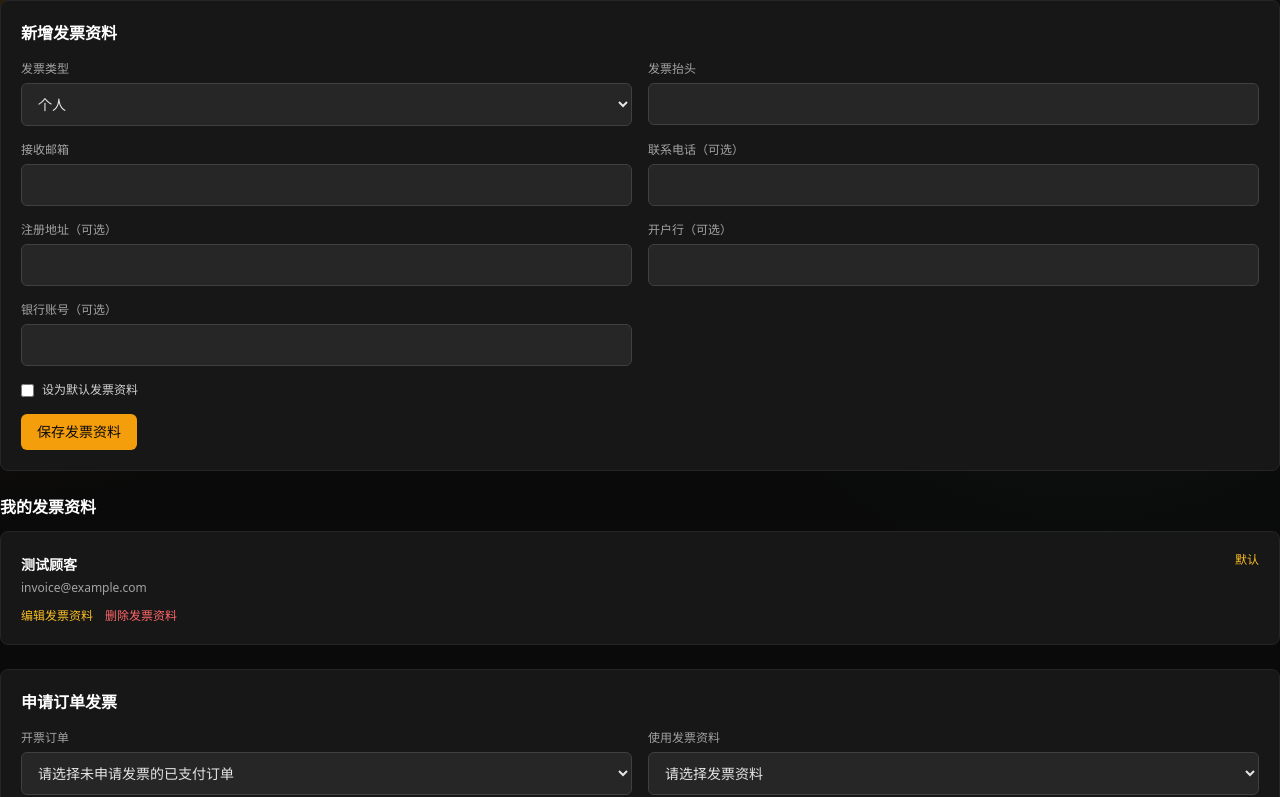
InvoicePanel › updates and version-deletes an invoice profile
Click the button "编辑发票资料" at (57, 616), box x1=21 y1=608 x2=93 y2=624
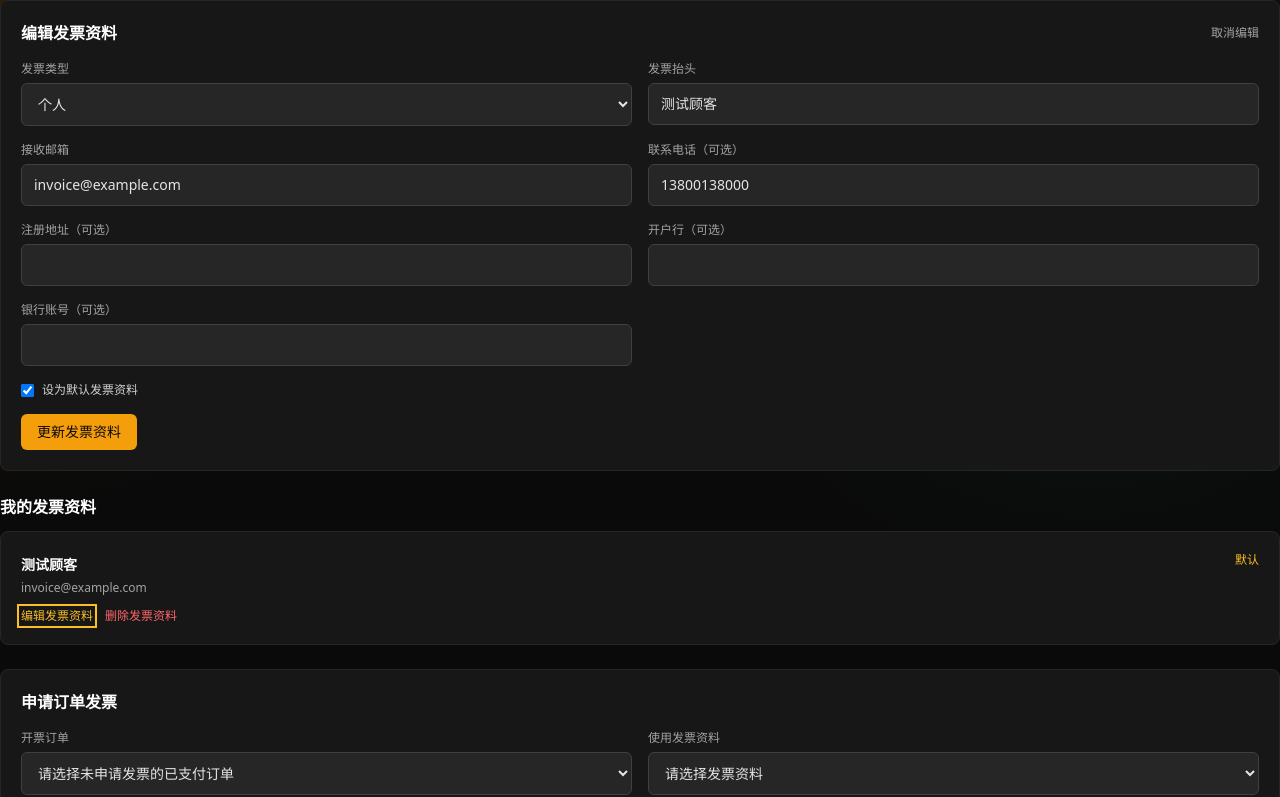
Replace the text in the field labelled "接收邮箱" with "finance@example.com" at (326, 185), box x1=21 y1=164 x2=632 y2=206
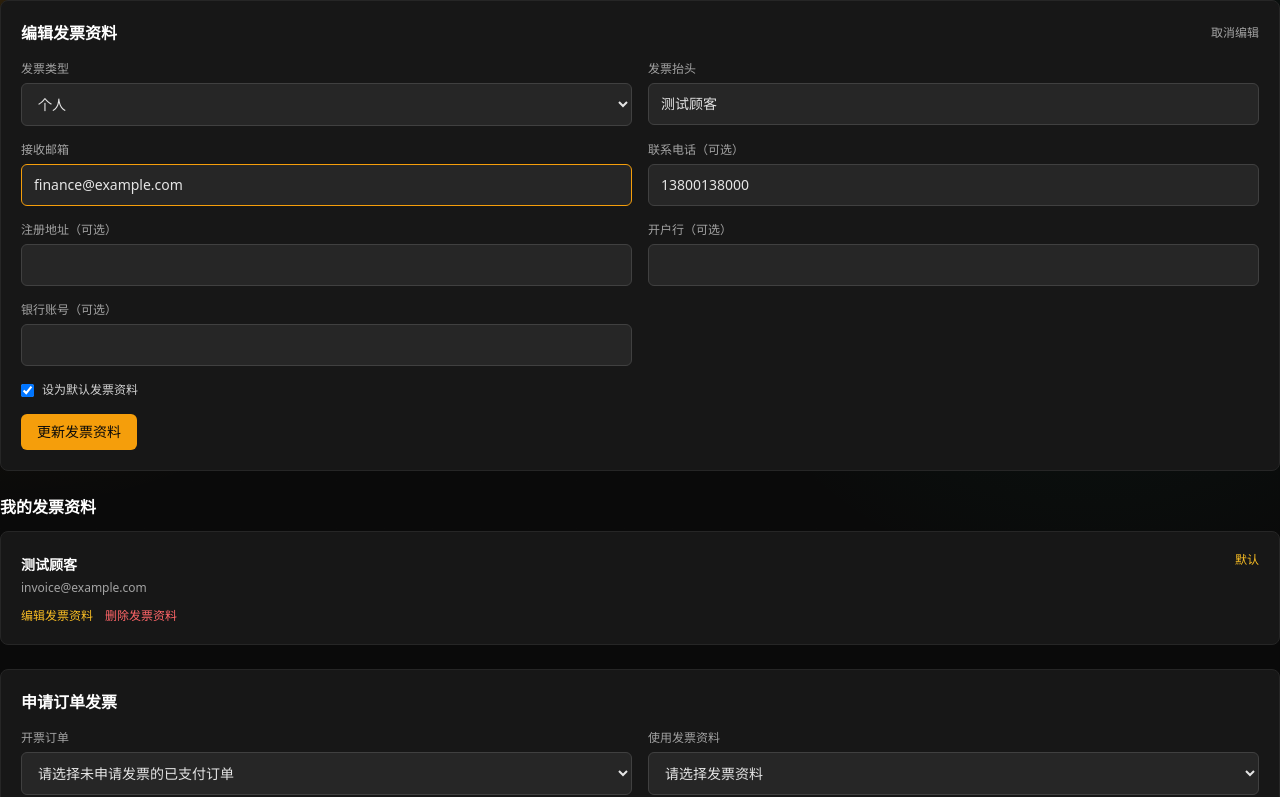
Click the button "更新发票资料" at (79, 432), box x1=21 y1=414 x2=137 y2=450
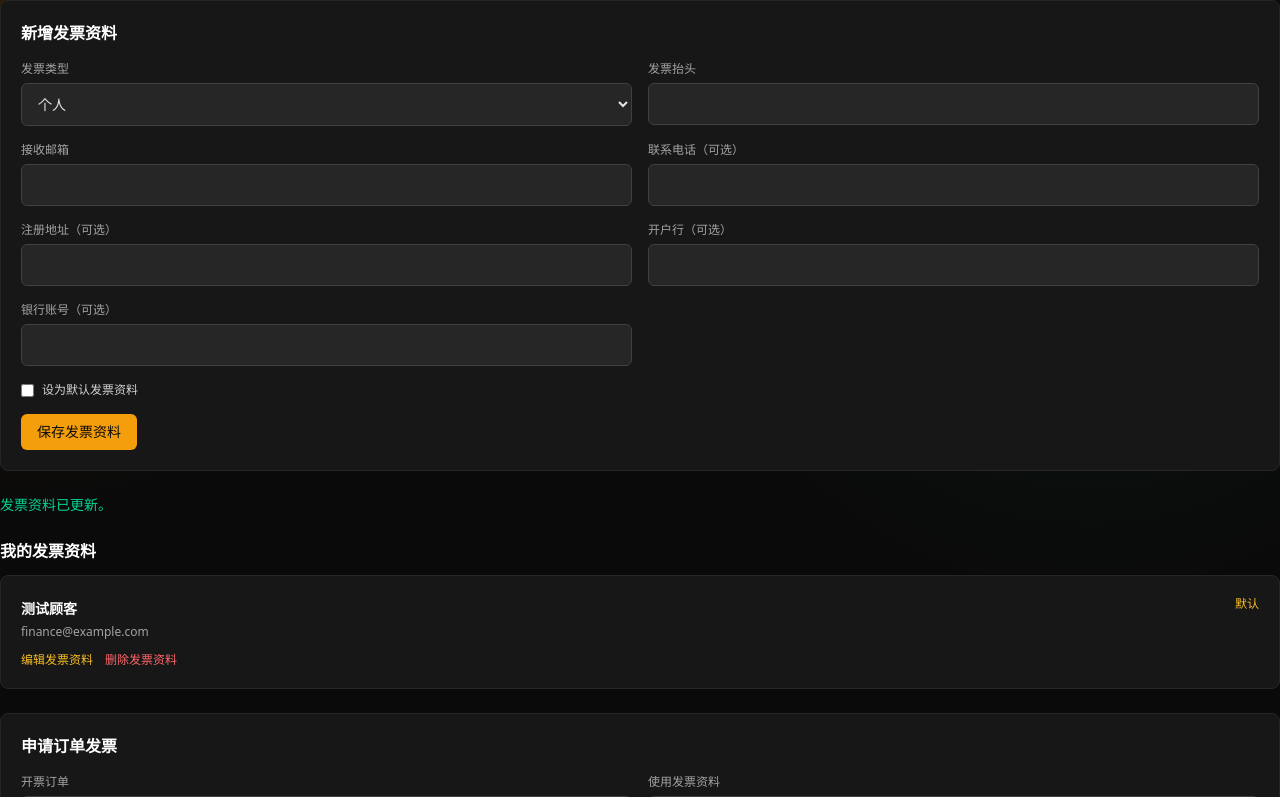
Click the button "删除发票资料" at (141, 660), box x1=105 y1=652 x2=177 y2=668
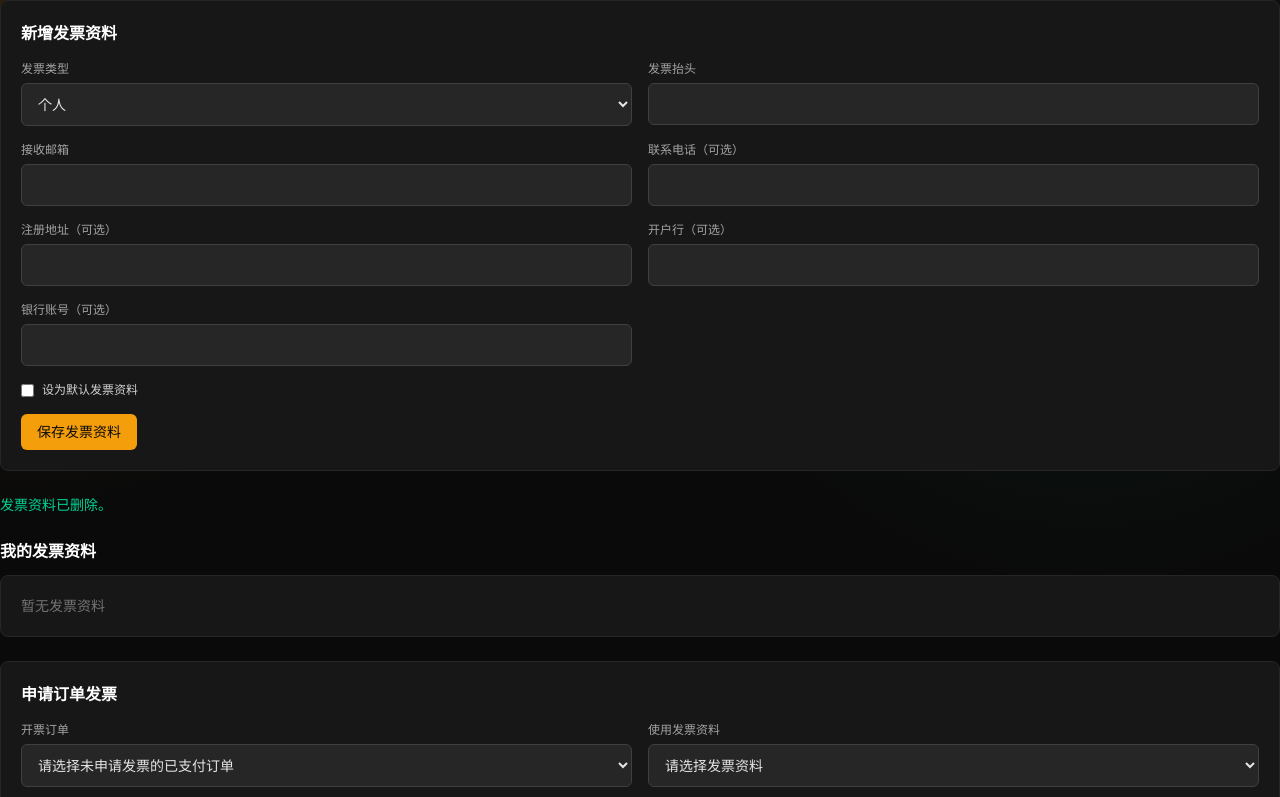
Result: the message shows "发票资料已删除" at x1=0 y1=495 x2=112 y2=514
